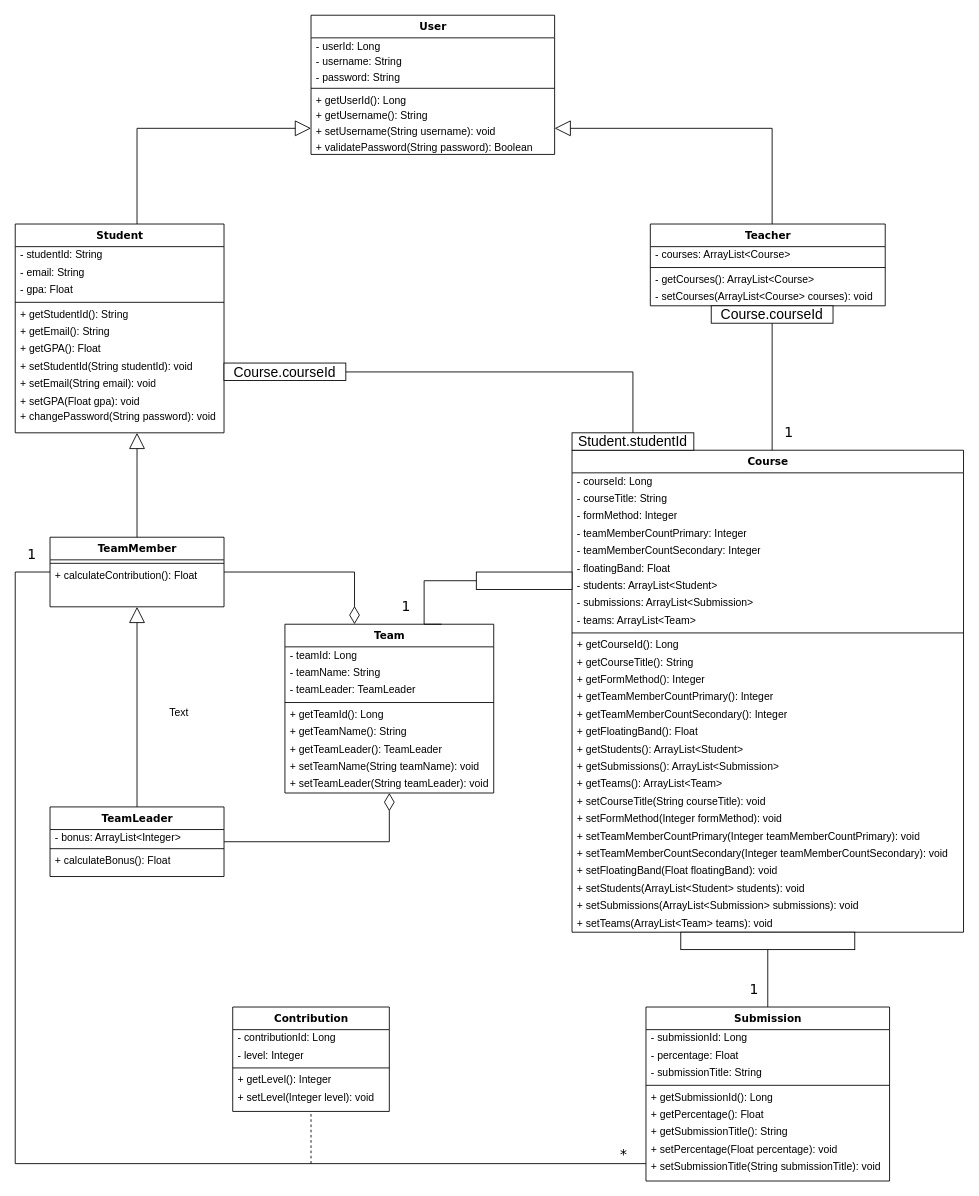
This 979x1196 diagram has some shape labels left out. The shapes that lost their labels are listed below. From the top down, each one's centre as x and y in pixels, then its label:
At (523,580): "Team.teamId".
At (767,940): "Submission.submissionId".
